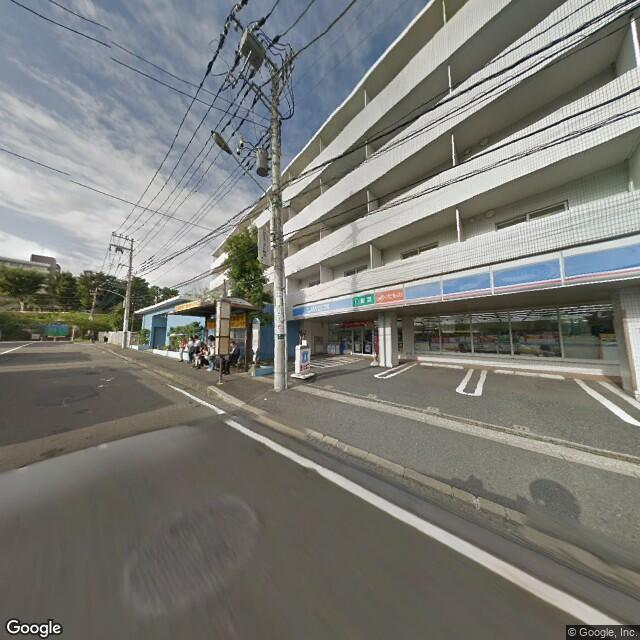lawson: (292, 234, 639, 319), (299, 343, 312, 364)
